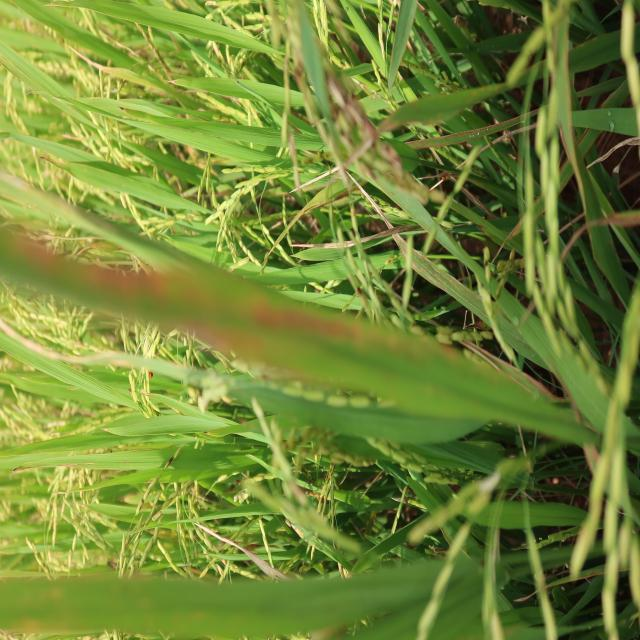Dom soc vi khuan: (412, 250, 487, 322), (393, 234, 408, 259)
